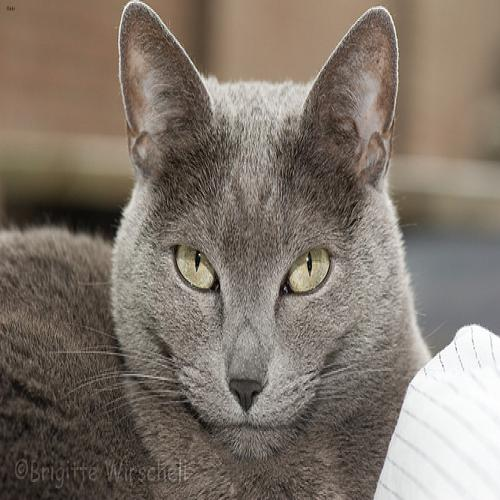rblue: (116, 1, 407, 468)
